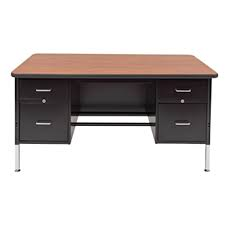desk: (6, 44, 223, 178)
